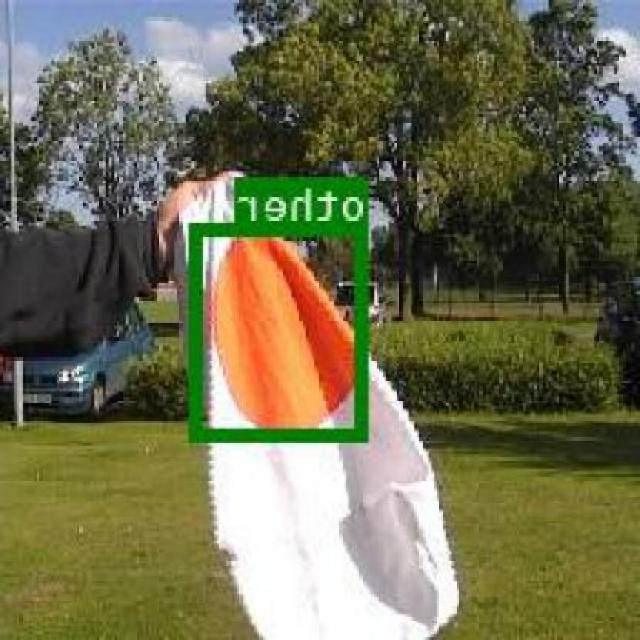other: (193, 223, 370, 440)
